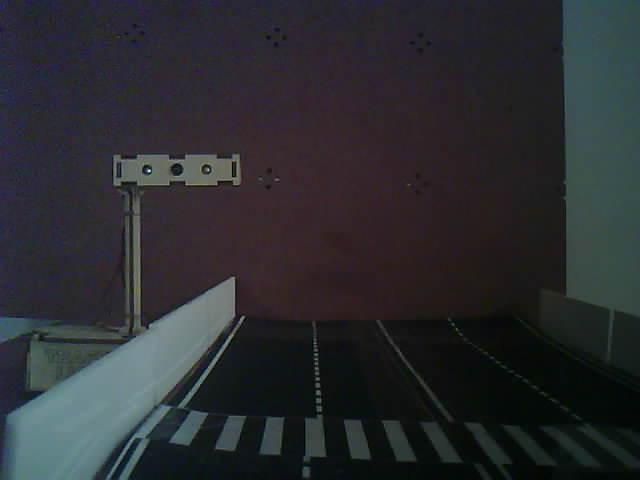crosswalk: (96, 381, 640, 480)
no: (101, 133, 261, 215)
